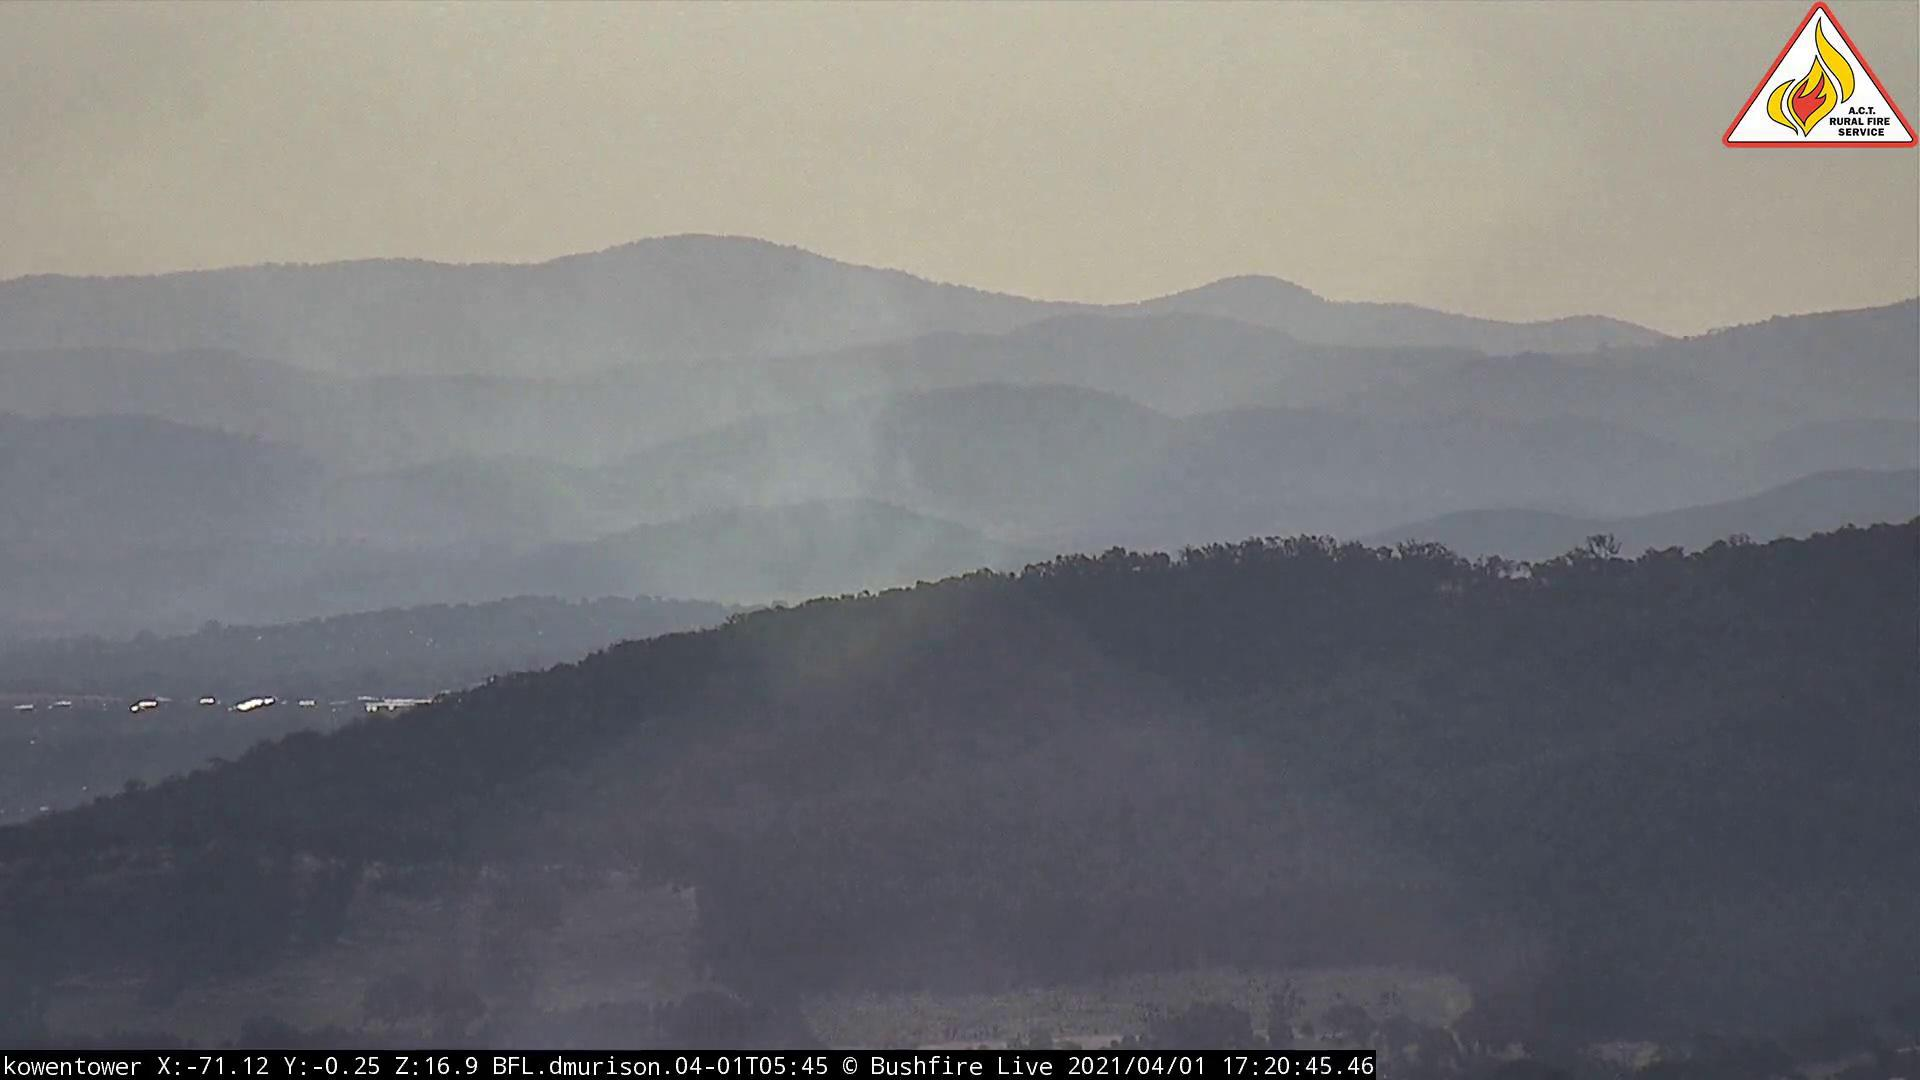Smoke: (559, 284, 1013, 616)
